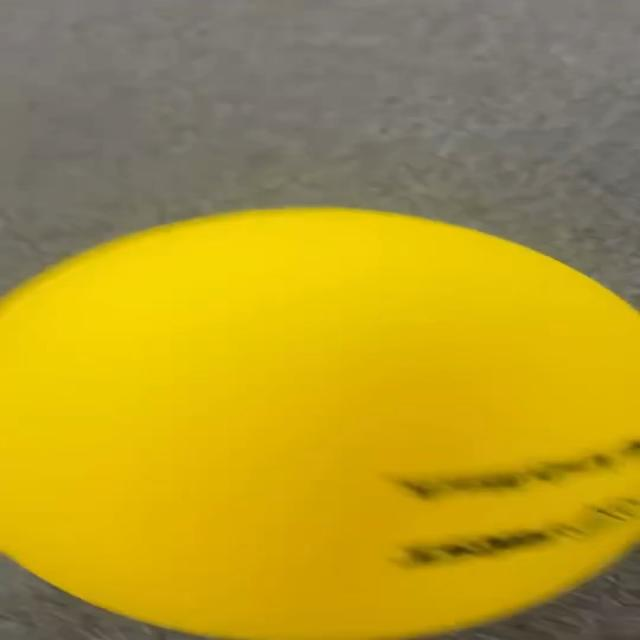Fuels: (4, 209, 638, 635)
